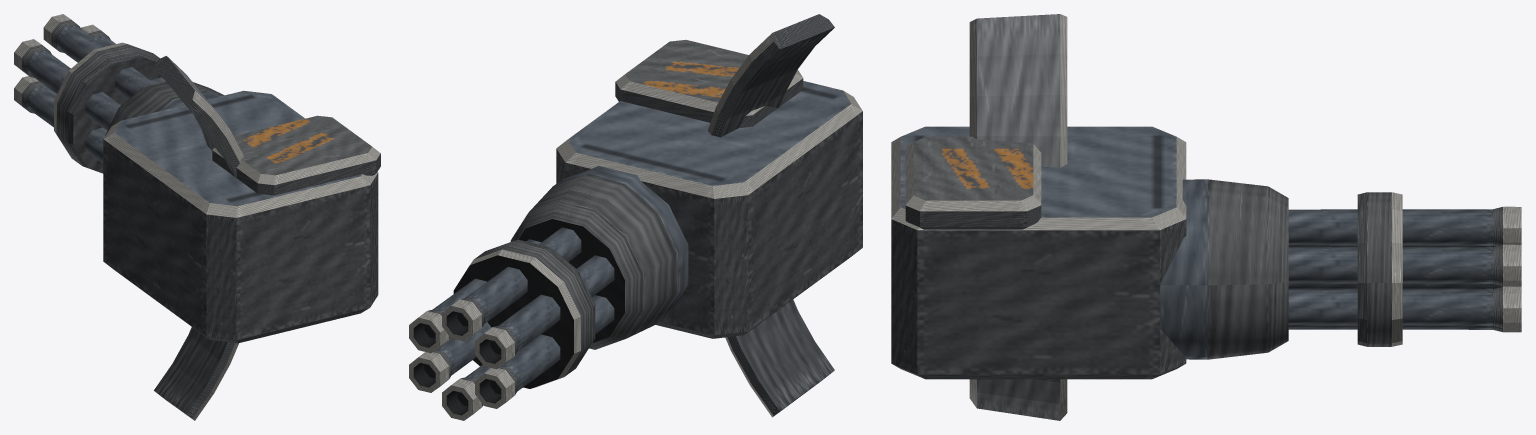
Rendered from ChainGun.glb.
3 views of the same model, side by side, from view 1: azimuth 30°, elevation 25°; view 2: azimuth 150°, elevation 25°; view 3: azimuth 270°, elevation 25° (orthographic). The views are drawn at different scales.
Visible parts, largest first — view 1: ChainGun; view 2: ChainGun; view 3: ChainGun.
Boxes of the visible parts, x1,y1,x2,y2 form: ChainGun: (14,14,380,420); ChainGun: (409,14,862,420); ChainGun: (891,14,1521,420).
Size of the model in its own units: 0.201 by 0.3775 by 0.53.
Materials: 1 (1 with a texture image).
